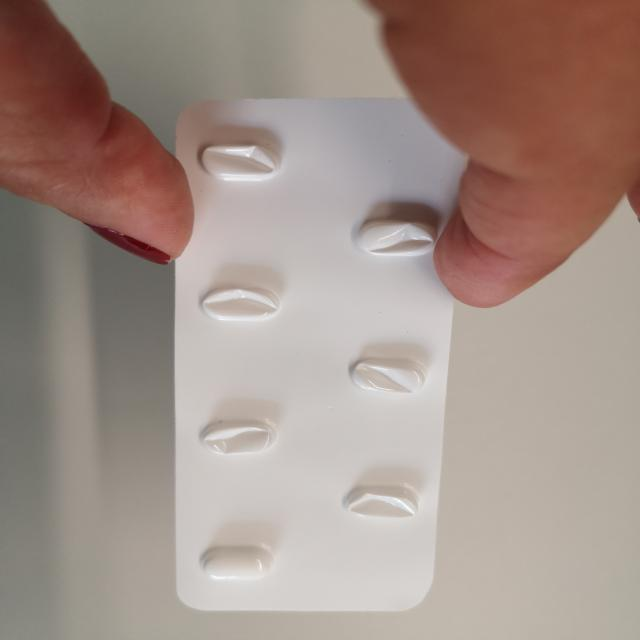Empty: (194, 137, 285, 184), (351, 216, 440, 259), (194, 282, 285, 324), (344, 355, 432, 397), (194, 415, 280, 457), (339, 480, 424, 522)
Pill: (195, 544, 277, 583)
